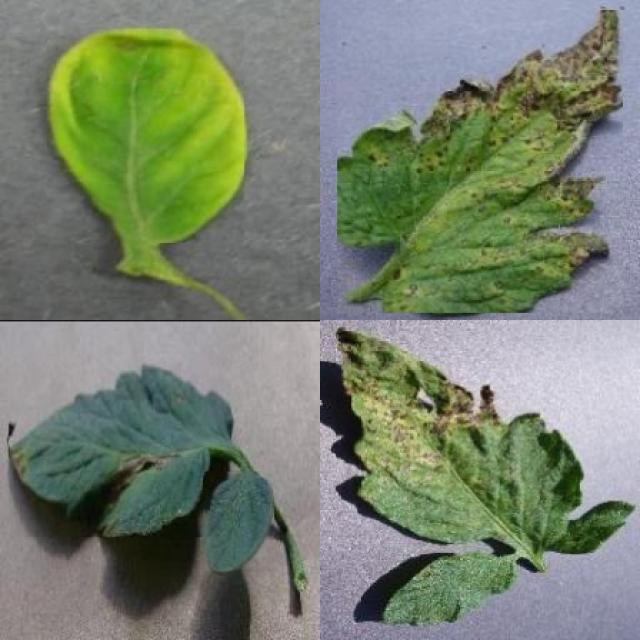Early Blight: (8, 360, 232, 537)
Healthy: (203, 472, 274, 572)
Septoria: (337, 10, 623, 313), (336, 325, 636, 555)
Yellow Leaf Curl Virus: (47, 28, 244, 243)
